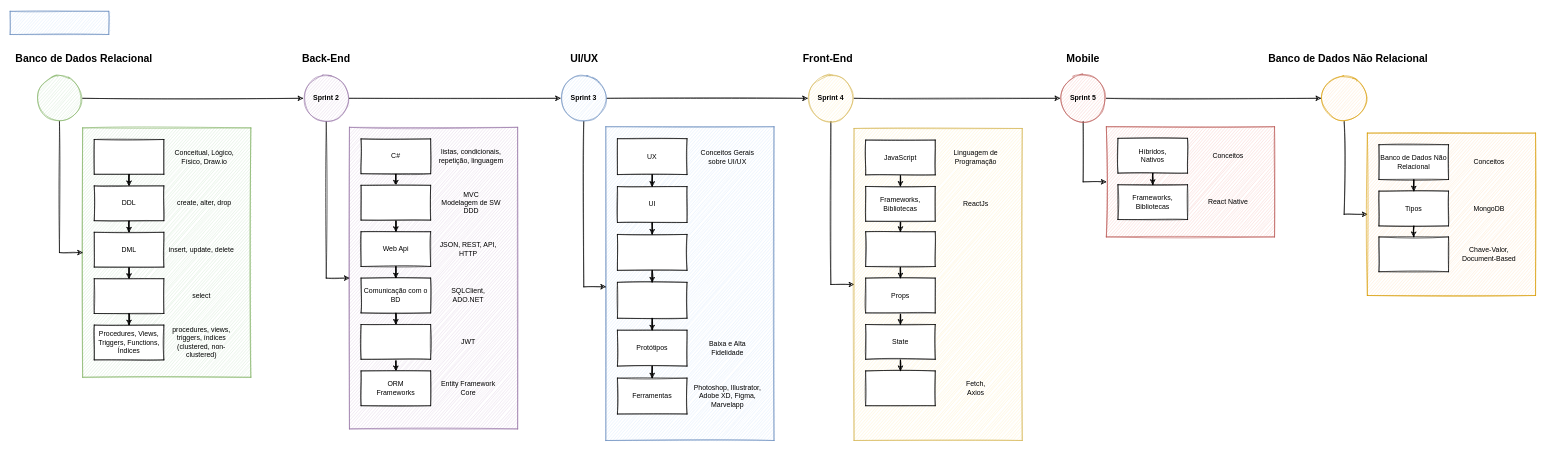
Image size: 1546x451. Some labels were removed from this diagram. The shapes that lost their labels are listed below. From the top down, each one's centre as x and y in pixels, then its label:
At pixel 59 23: "Visão Geral".
At pixel 59 98: "Sprint 1".
At pixel 1343 98: "Sprint 6".
At pixel 129 156: "Modelagem".
At pixel 395 202: "Padrões, Arquiteturas".
At pixel 652 252: "Boas Práticas".
At pixel 900 249: "Components".
At pixel 1413 254: "Estrutura".
At pixel 129 295: "DQL".
At pixel 652 300: "Más Práticas".
At pixel 395 341: "Autenticação, Autorização".
At pixel 900 388: "Requests".
